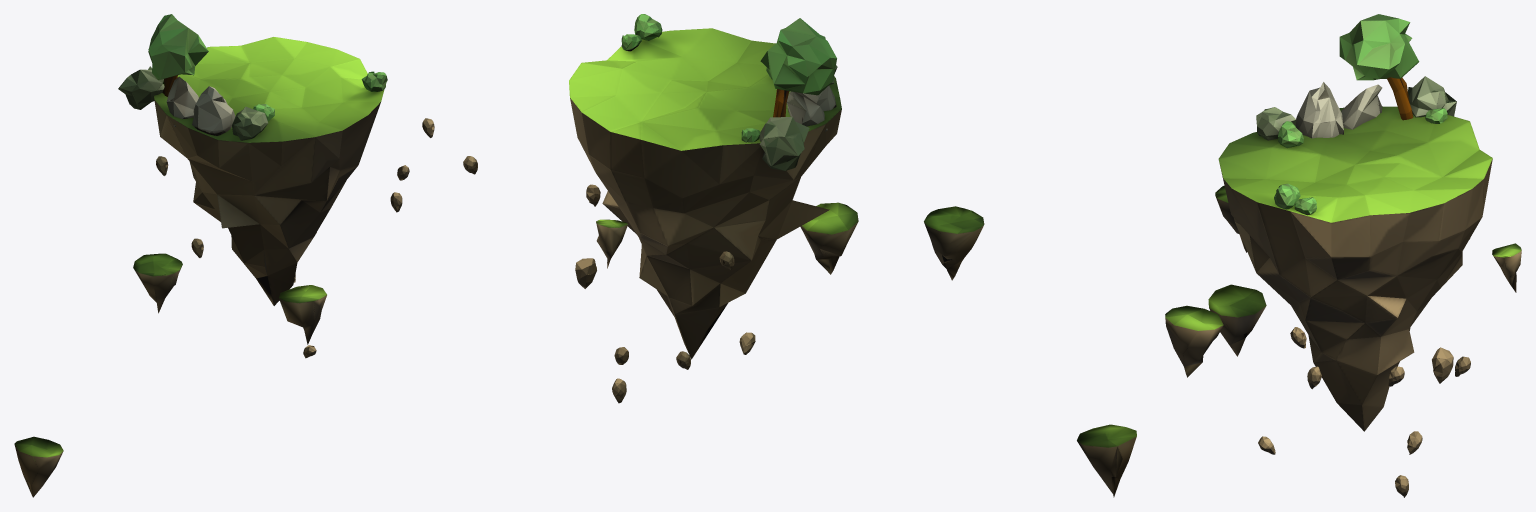
Rendered from paperworld_platform_grass.fbx.
3 renders of one model, left to right at view 1: azimuth 30°, elevation 25°; view 2: azimuth 150°, elevation 25°; view 3: azimuth 270°, elevation 25°, orthographic. The views are drawn at different scales.
Visible parts, largest first — view 1: grass1_ground.2.2, grass1_Polygon-Objekt, grass1_ground.3, grass1_ground, grass1_ground.1, grass1_Polygon-Objekt.18, grass1_Polygon-Objekt.3, grass1_Polygon-Objekt.17, grass1_Polygon-Objekt.2; view 2: grass1_ground.2.2, grass1_Polygon-Objekt, grass1_ground.1, grass1_ground.3, grass1_ground, grass1_Polygon-Objekt.3, grass1_Polygon-Objekt.17, grass1_ground.2; view 3: grass1_ground.2.2, grass1_Polygon-Objekt, grass1_ground, grass1_ground.3, grass1_Polygon-Objekt.18, grass1_Polygon-Objekt.3, grass1_Polygon-Objekt.17, grass1_Polygon-Objekt.2, grass1_ground.2, grass1_Baumstamm, grass1_Polygon-Objekt.16, grass1_Polygon-Objekt.5 (+2 smaller).
Part boxes in pixels (x1,y1,x2,y2): grass1_ground.2.2: (154,37,384,305); grass1_Polygon-Objekt: (148,14,208,80); grass1_ground.3: (14,436,63,497); grass1_ground: (279,285,326,344); grass1_ground.1: (133,253,182,313); grass1_Polygon-Objekt.18: (192,86,235,135); grass1_Polygon-Objekt.3: (118,66,164,109); grass1_Polygon-Objekt.17: (166,76,198,126); grass1_Polygon-Objekt.2: (232,106,268,140); grass1_ground.2.2: (569,28,841,359); grass1_Polygon-Objekt: (760,18,836,95); grass1_ground.1: (924,206,984,280); grass1_ground.3: (1077,424,1136,497); grass1_ground: (800,202,858,274); grass1_Polygon-Objekt.3: (759,117,809,170); grass1_Polygon-Objekt.17: (786,91,827,131); grass1_ground.2: (596,219,627,268); grass1_ground.2.2: (1218,106,1492,431); grass1_Polygon-Objekt: (1339,14,1419,80); grass1_ground: (1165,305,1223,377); grass1_ground.3: (1208,284,1266,356); grass1_Polygon-Objekt.18: (1295,82,1343,138); grass1_Polygon-Objekt.3: (1408,76,1456,117); grass1_Polygon-Objekt.17: (1341,84,1382,129); grass1_Polygon-Objekt.2: (1256,107,1296,140); grass1_ground.2: (1492,243,1521,292); grass1_Baumstamm: (1387,77,1413,120); grass1_Polygon-Objekt.16: (1432,347,1453,383); grass1_Polygon-Objekt.5: (1278,121,1303,147).
Bounding box in the file's own units: 490 × 372 × 262.
24 materials, 24 textured.
